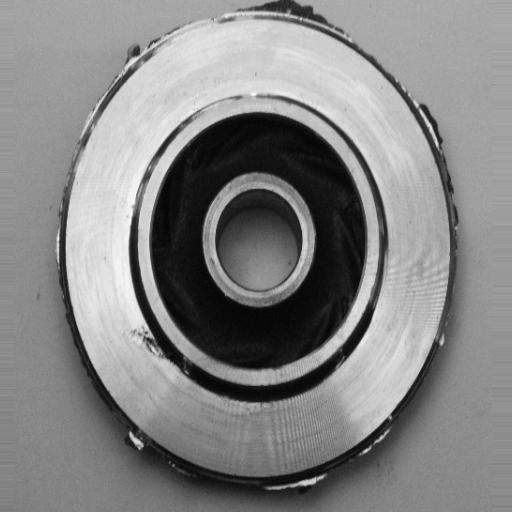casting_with_burr: (53, 0, 464, 496)
crack: (127, 325, 189, 373)
scratch: (129, 146, 162, 220), (212, 86, 293, 106)
